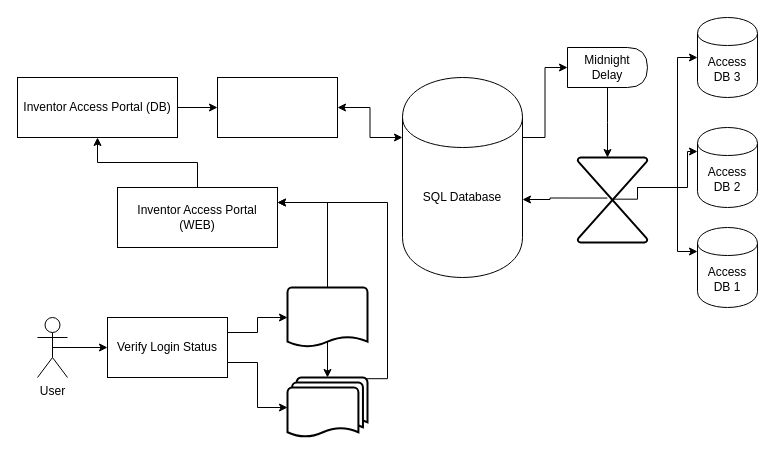
Some shapes in this 775 by 456 pixel diagram are drawn without their labels. The shapes that lost their labels are listed below. From the top down, each one's centre as x and y in pixels, then its label:
point (277, 107): Entity Framework
point (612, 199): Merge Using SSMA
point (327, 317): Login/Register
point (327, 407): Other Pages
